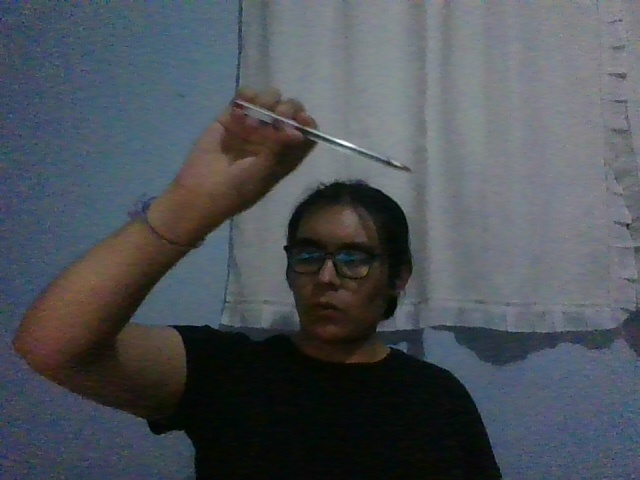pluma: (227, 96, 413, 174)
